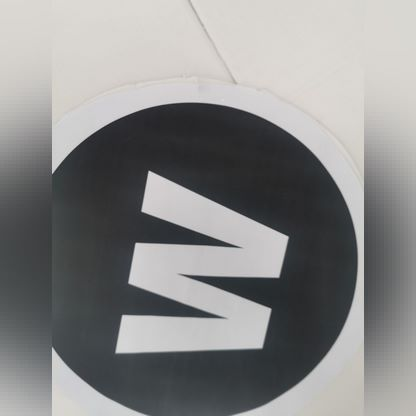W: (50, 129, 365, 412)
